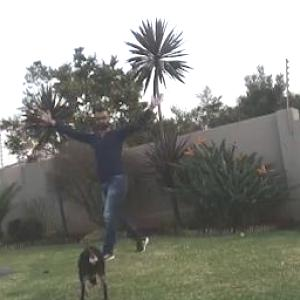takeoff: (47, 72, 156, 267)
